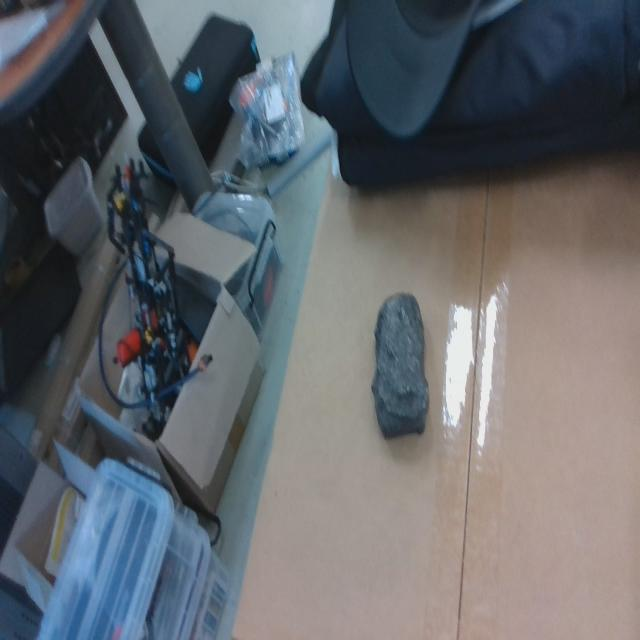stone: (371, 291, 430, 441)
